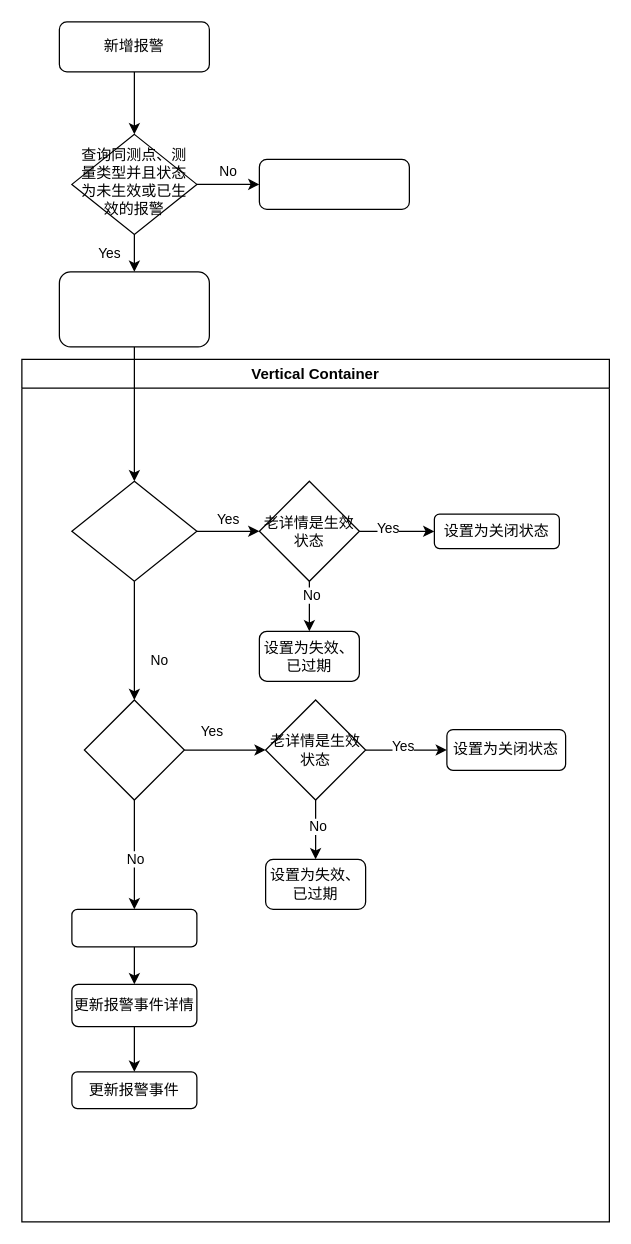
The diagram is 631 pixels wide and 1244 high, and some of its shapes have lost their labels. The shapes that lost their labels are listed below. From the top down, each one's centre as x and y in pixels, then its label:
point 333,183: 新建当前测点、测量类型的报警事件详情
point 133,309: 遍历已存在的同测点-测量类型，未生效或已生效的报警详情
point 134,530: 老详情的等级大于新详情的等级
point 133,749: 是否超时
point 134,927: 设置为生效状态
